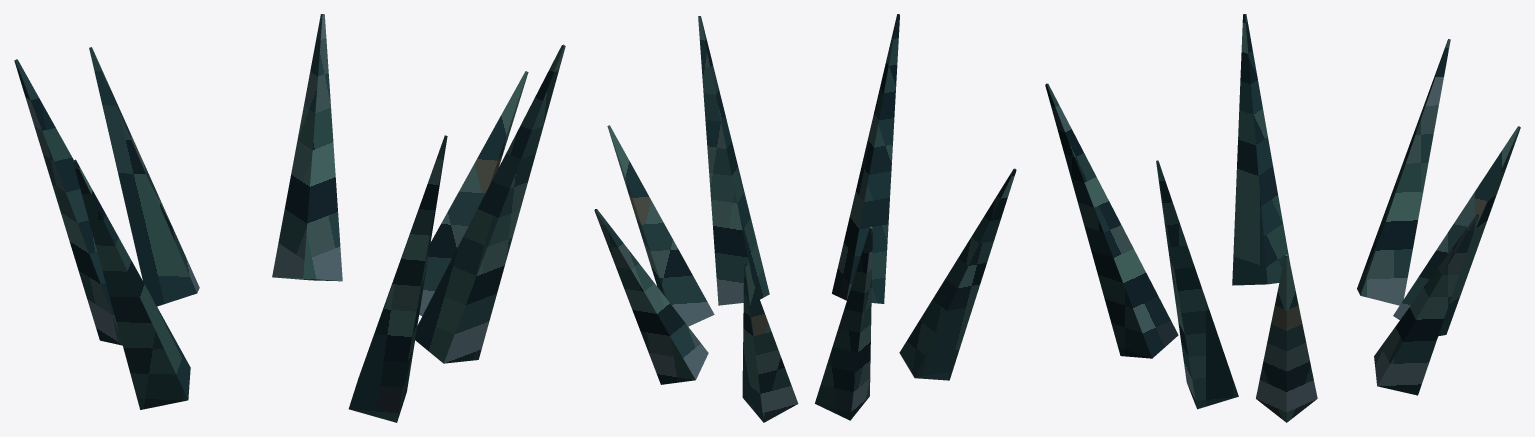
The model's file is enfeite_capim.glb.
3 renders of one model, left to right at view 1: azimuth 30°, elevation 25°; view 2: azimuth 150°, elevation 25°; view 3: azimuth 270°, elevation 25°, orthographic. The views are drawn at different scales.
Parts seen in each view (by area): view 1: pedreira_enfeite_capim; view 2: pedreira_enfeite_capim; view 3: pedreira_enfeite_capim.
Part boxes in pixels (left/top/right/bottom): pedreira_enfeite_capim: left=14, top=14, right=565, bottom=422; pedreira_enfeite_capim: left=594, top=14, right=1016, bottom=422; pedreira_enfeite_capim: left=1045, top=14, right=1520, bottom=422.
Size of the model in its own units: 0.2797 by 0.1784 by 0.2765.
1 material, 1 textured.
